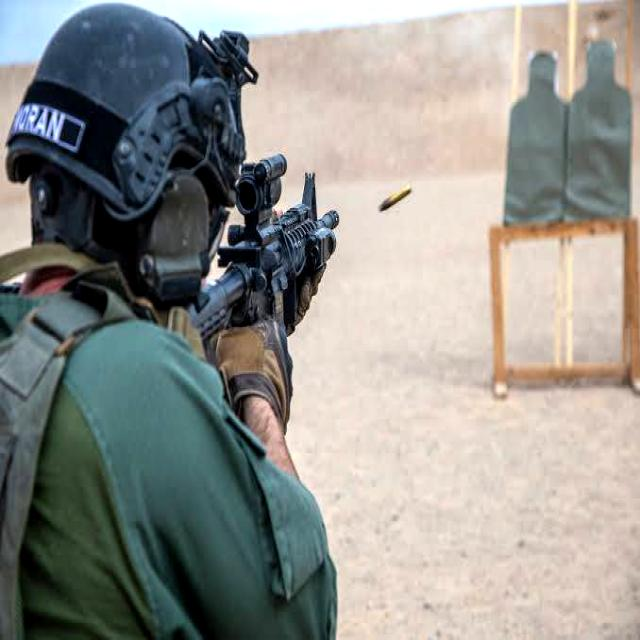m16: (196, 132, 361, 332)
